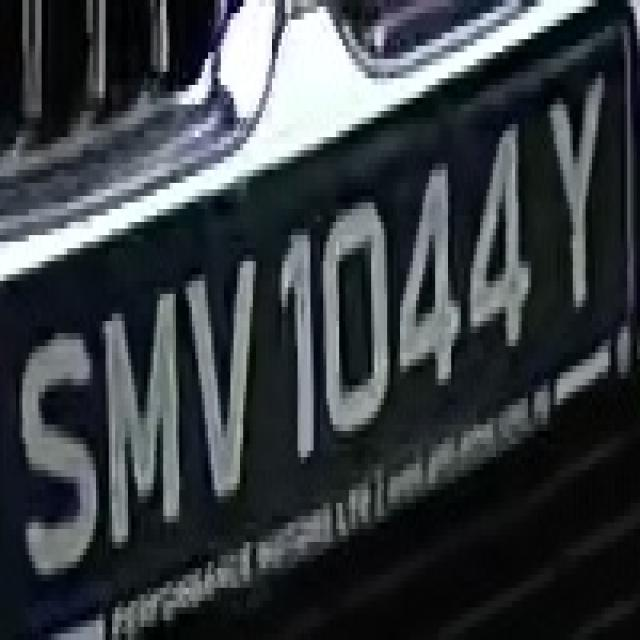0: (323, 209, 387, 451)
1: (282, 216, 316, 477)
4: (458, 98, 540, 366), (388, 157, 470, 405)
M: (96, 287, 186, 562)
S: (10, 314, 99, 574)
V: (176, 242, 266, 516)
Y: (538, 65, 608, 314)
